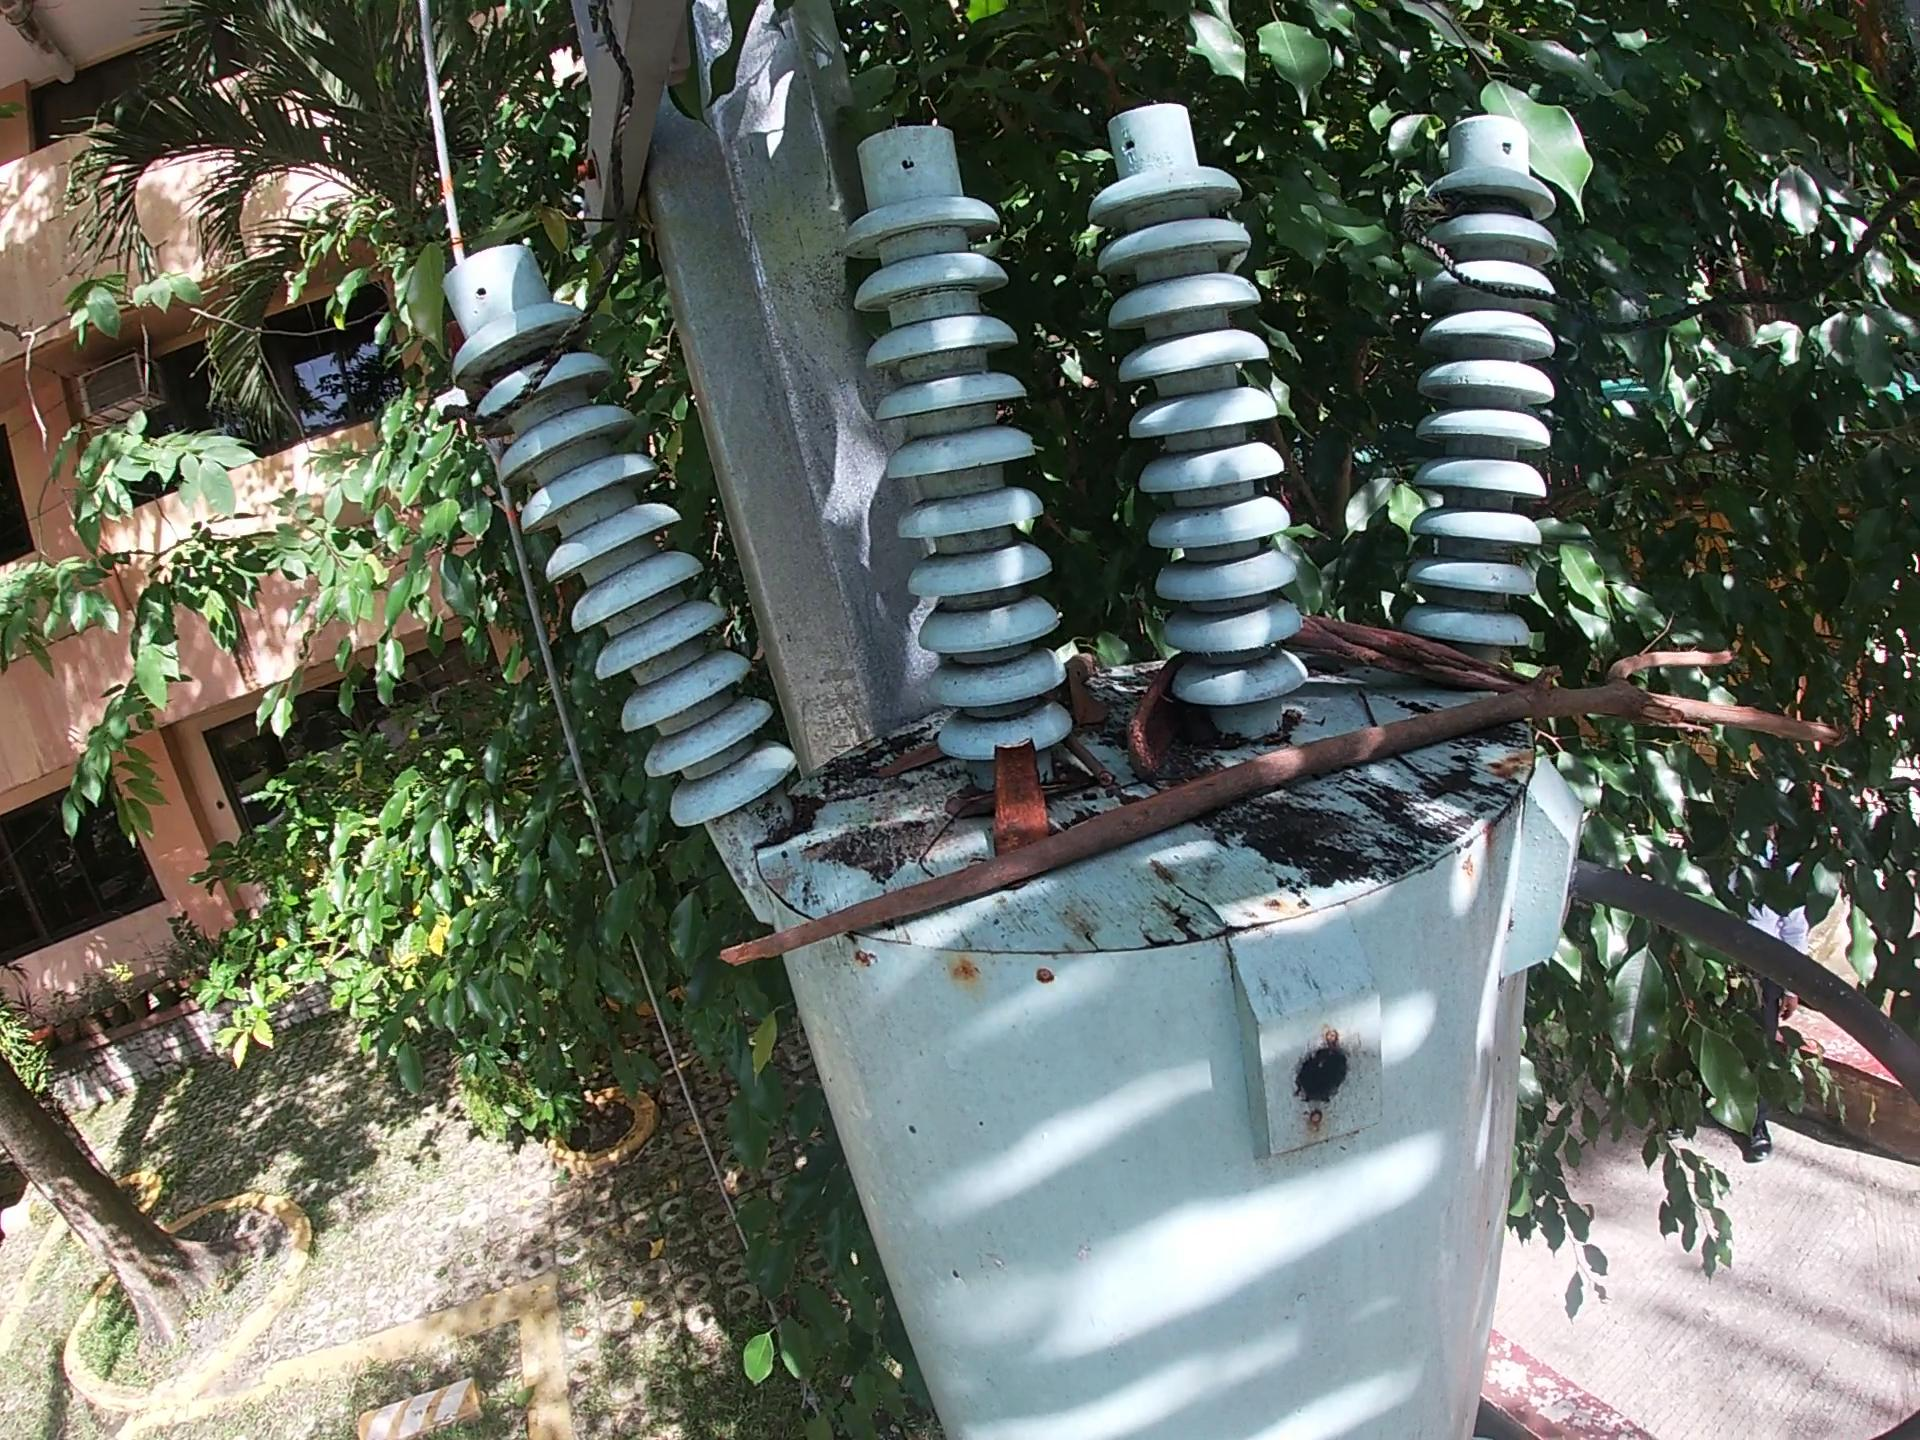leaf: (868, 731, 963, 785), (1060, 666, 1119, 726)
mahogany fruit: (1123, 647, 1197, 787), (987, 734, 1054, 861)
tree branch: (712, 638, 1849, 973), (1277, 605, 1680, 728)
